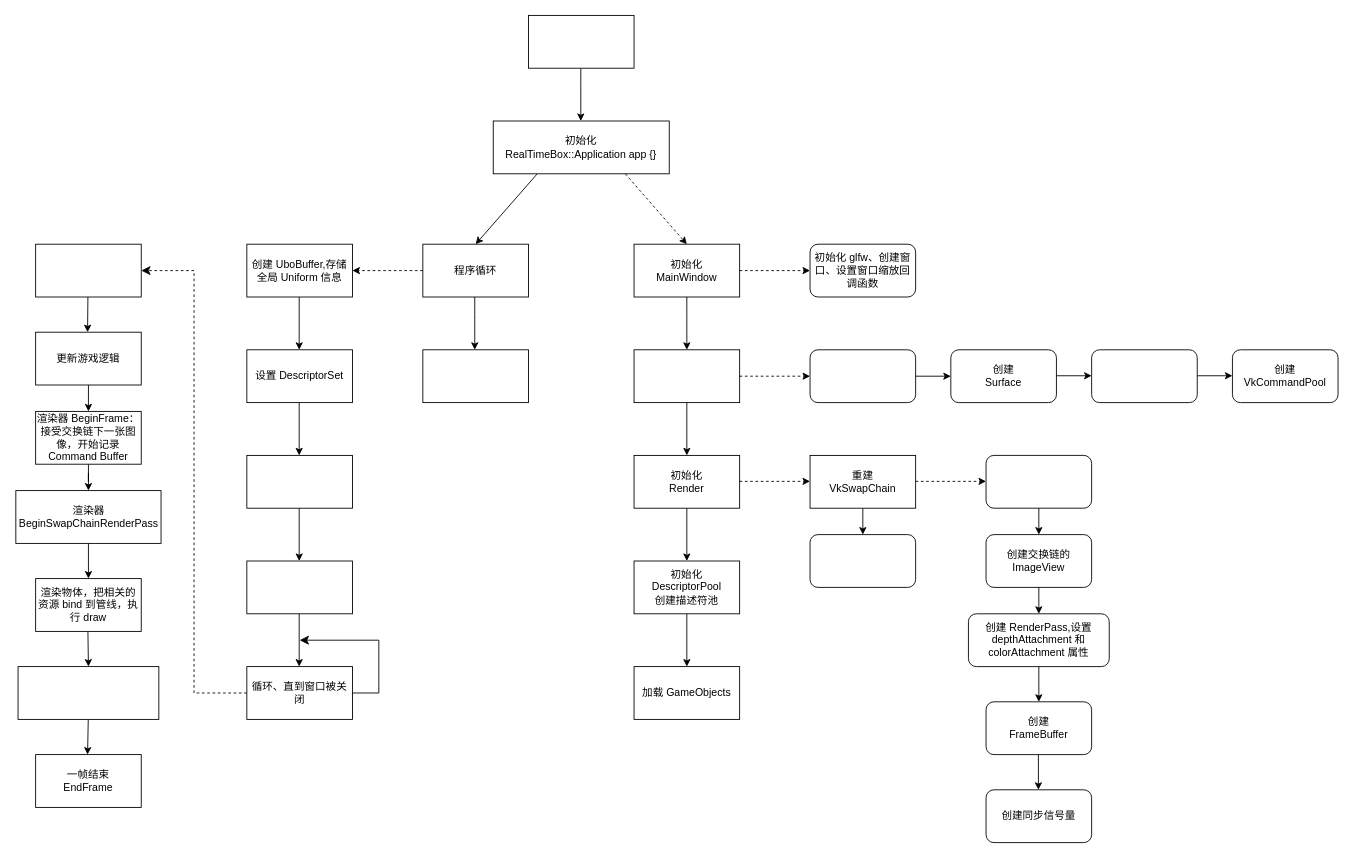
The diagram is 1353 pixels wide and 858 high, and some of its shapes have lost their labels. Each missing label, with the centre of its shape:
glfw 分发窗口事件: (88,270)
创建 Camera: (299,587)
创建 SimpleRender System: (299,481)
创建 VkCommndBuffer: (862,560)
创建 VkDevice: (1144,376)
创建 VkInstance: (862,376)
创建新交换链，把旧交换链赋值给它的指定句柄: (1038,481)
初始化 Device: (686,376)
渲染器 EndSwapChainRenderPass: (88,692)
结束: (475,376)
项目启动: (581,41)
